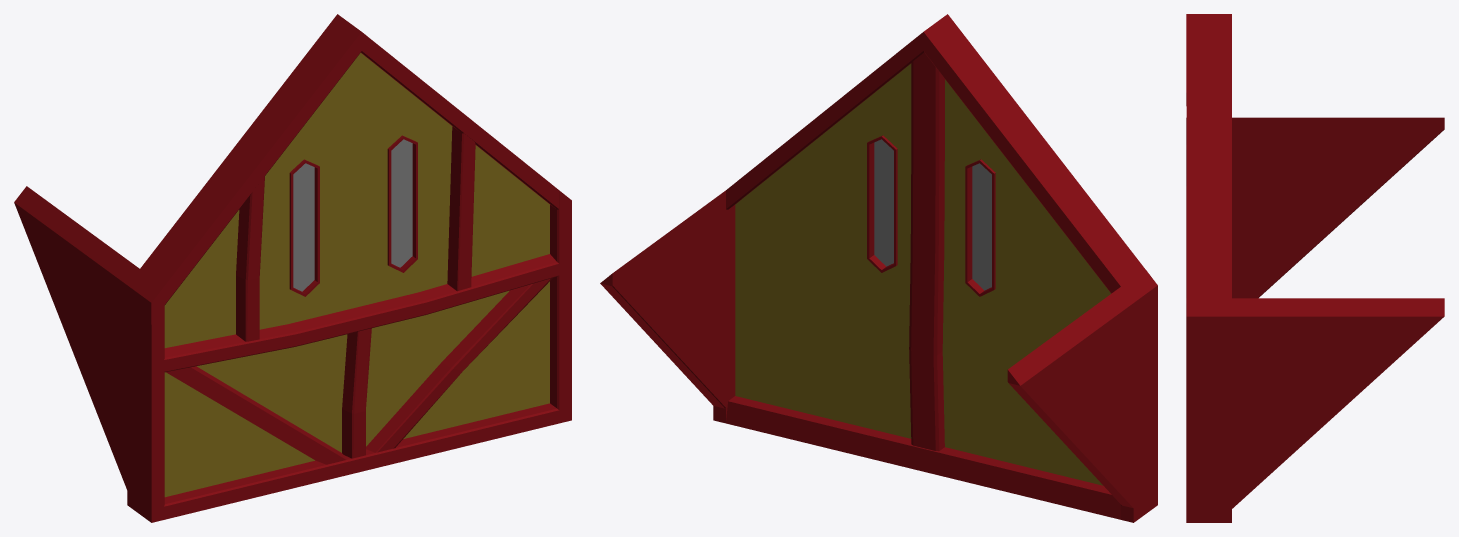
Rendered from SM_MH_01_Plaster_Wall_Skylight_Window_01.fbx.
3 renders of one model, left to right at view 1: azimuth 30°, elevation 25°; view 2: azimuth 150°, elevation 25°; view 3: azimuth 270°, elevation 25°, orthographic. The views are drawn at different scales.
Parts seen in each view (by area): view 1: SM_MH_01_Plaster_Wall_Skylight_Window_01_LOD0, SM_MH_01_Plaster_Wall_Skylight_Window_01W_LOD0; view 2: SM_MH_01_Plaster_Wall_Skylight_Window_01_LOD0, SM_MH_01_Plaster_Wall_Skylight_Window_01W_LOD0; view 3: SM_MH_01_Plaster_Wall_Skylight_Window_01_LOD0.
Part boxes in pixels (left/top/right/bottom): SM_MH_01_Plaster_Wall_Skylight_Window_01_LOD0: left=14, top=14, right=571, bottom=522; SM_MH_01_Plaster_Wall_Skylight_Window_01W_LOD0: left=293, top=139, right=412, bottom=291; SM_MH_01_Plaster_Wall_Skylight_Window_01_LOD0: left=600, top=14, right=1157, bottom=522; SM_MH_01_Plaster_Wall_Skylight_Window_01W_LOD0: left=874, top=139, right=991, bottom=290; SM_MH_01_Plaster_Wall_Skylight_Window_01_LOD0: left=1186, top=14, right=1444, bottom=522.
Size of what is drawn, in the model's own units: 300 by 300 by 170.
